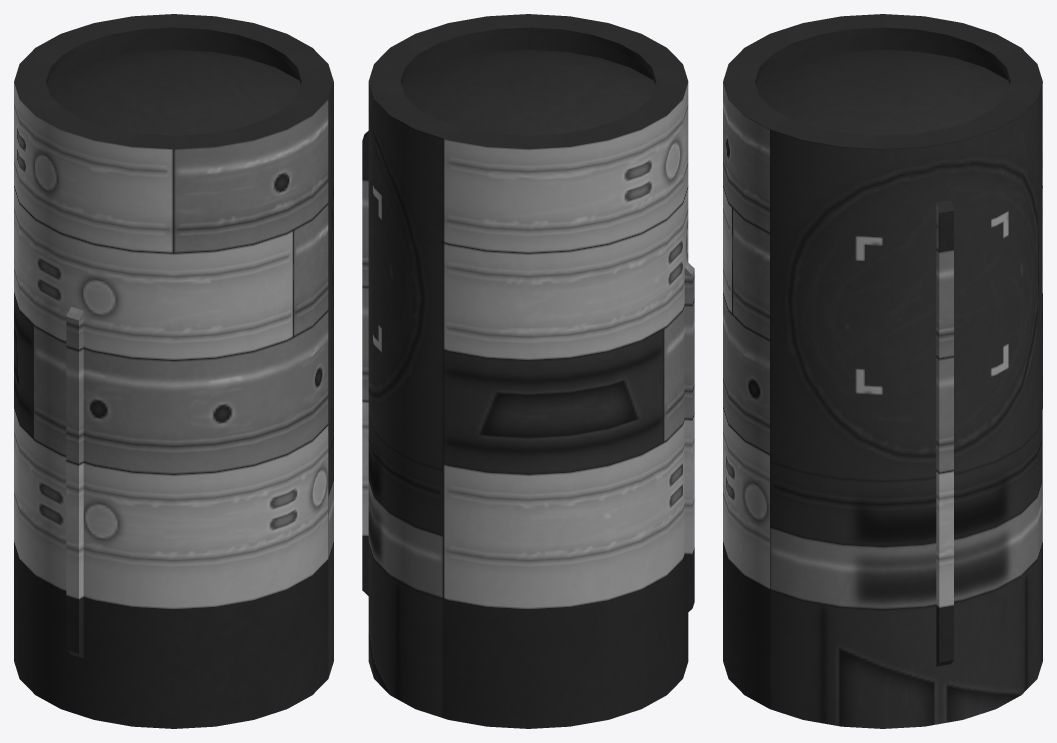
Rendered from Arrow_FuelTank_1_1.obj.
3 renders of one model, left to right at view 1: azimuth 30°, elevation 25°; view 2: azimuth 150°, elevation 25°; view 3: azimuth 270°, elevation 25°, orthographic.
Visible parts, largest first — view 1: Arrow_FuelTank_1_1; view 2: Arrow_FuelTank_1_1; view 3: Arrow_FuelTank_1_1.
Part boxes in pixels (left/top/right/bottom): Arrow_FuelTank_1_1: left=14, top=14, right=333, bottom=728; Arrow_FuelTank_1_1: left=362, top=14, right=694, bottom=728; Arrow_FuelTank_1_1: left=723, top=14, right=1042, bottom=728.
Size of the model in its own units: 1.25 by 2.5 by 1.25.
